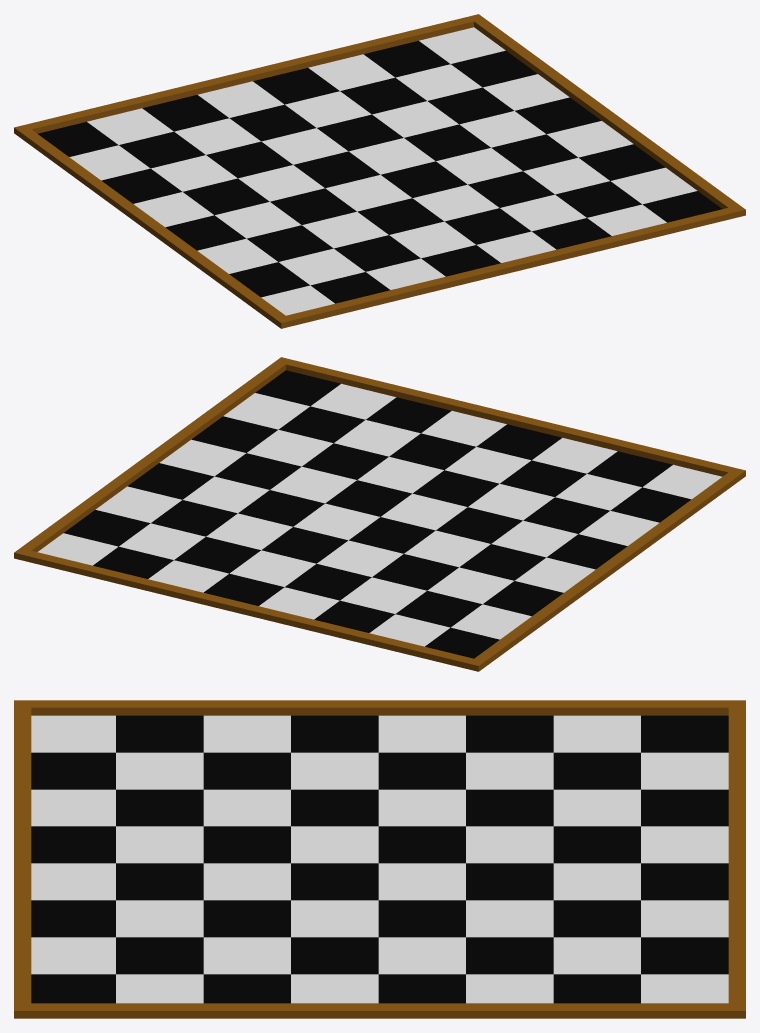
The model's file is Tabuleiro.glb.
The picture shows the model from 3 angles, top to bottom: view 1: azimuth 30°, elevation 25°; view 2: azimuth 150°, elevation 25°; view 3: azimuth 270°, elevation 25°; orthographic projection. The views are drawn at different scales.
Visible parts, largest first — view 1: Tabu, Cube.003, Cube.002, Cube.001, Cube; view 2: Tabu, Cube.002, Cube.003, Cube, Cube.001; view 3: Tabu, Cube.001, Cube, Cube.002, Cube.003.
Boxes of the visible parts, x1=… form: Tabu: x1=37, y1=27, x2=722, y2=315; Cube.003: x1=275, y1=207, x2=734, y2=328; Cube.002: x1=25, y1=14, x2=484, y2=133; Cube.001: x1=474, y1=19, x2=745, y2=217; Cube: x1=14, y1=125, x2=285, y2=323; Tabu: x1=37, y1=370, x2=722, y2=658; Cube.002: x1=14, y1=548, x2=473, y2=668; Cube.003: x1=286, y1=360, x2=745, y2=480; Cube: x1=467, y1=472, x2=739, y2=671; Cube.001: x1=21, y1=357, x2=291, y2=551; Tabu: x1=31, y1=715, x2=728, y2=1003; Cube.001: x1=14, y1=1003, x2=728, y2=1018; Cube: x1=31, y1=700, x2=745, y2=715; Cube.002: x1=728, y1=707, x2=745, y2=1018; Cube.003: x1=14, y1=700, x2=31, y2=1003.
Size of the model in its own units: 8.4 by 0.1 by 8.37.
